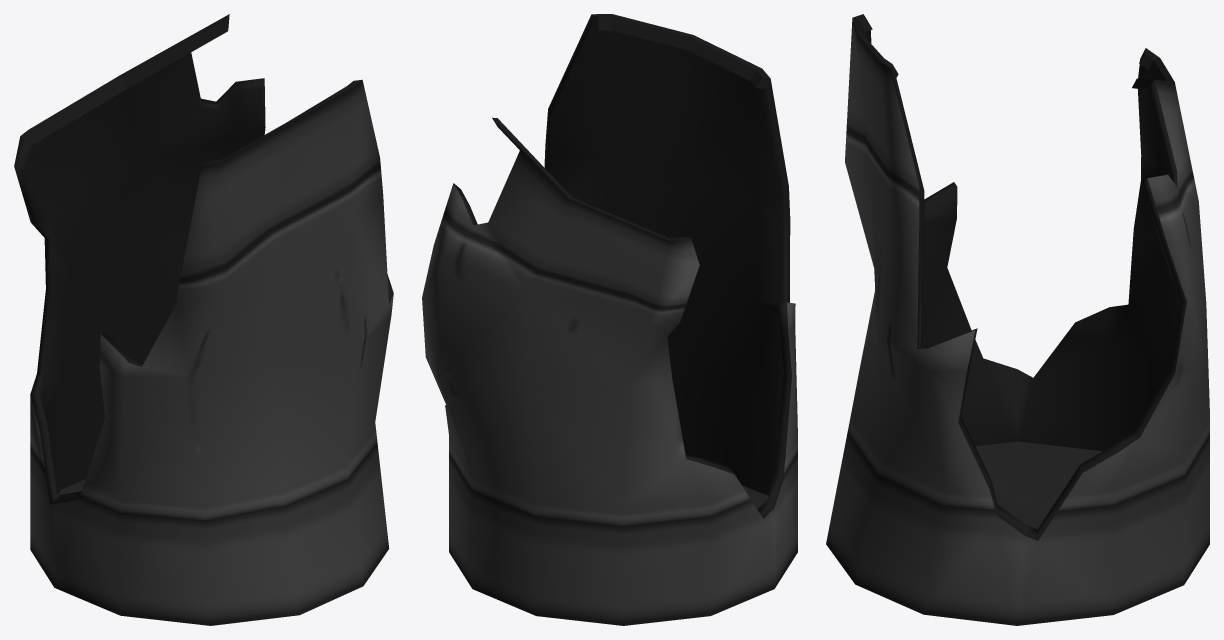
Rendered from Barrel.destroyed.fbx.
The picture shows the model from 3 angles, left to right: view 1: azimuth 30°, elevation 25°; view 2: azimuth 150°, elevation 25°; view 3: azimuth 270°, elevation 25°; orthographic projection. The views are drawn at different scales.
Visible parts, largest first — view 1: Barrel DESTROYED; view 2: Barrel DESTROYED; view 3: Barrel DESTROYED.
Boxes of the visible parts, box(x1,y1,x2,y2) form: Barrel DESTROYED: box(14, 14, 393, 625); Barrel DESTROYED: box(422, 14, 797, 625); Barrel DESTROYED: box(826, 14, 1209, 625).
Size of the model in its own units: 1 by 1.5 by 0.9951.
1 material, 1 textured.
